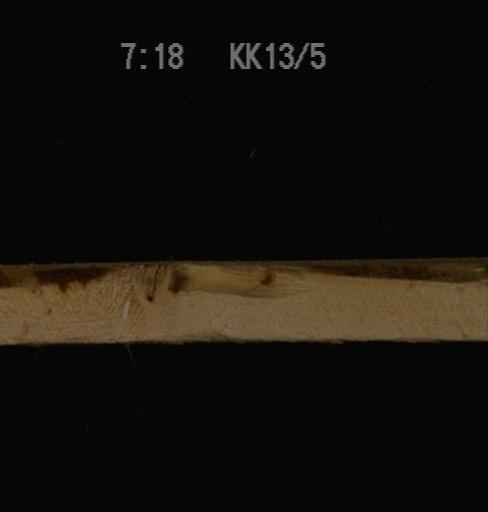wave: (0, 255, 487, 297)
